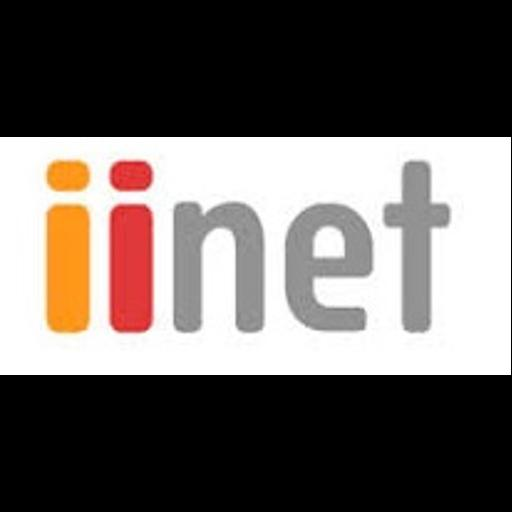iiNet Limited: (0, 137, 511, 375)
